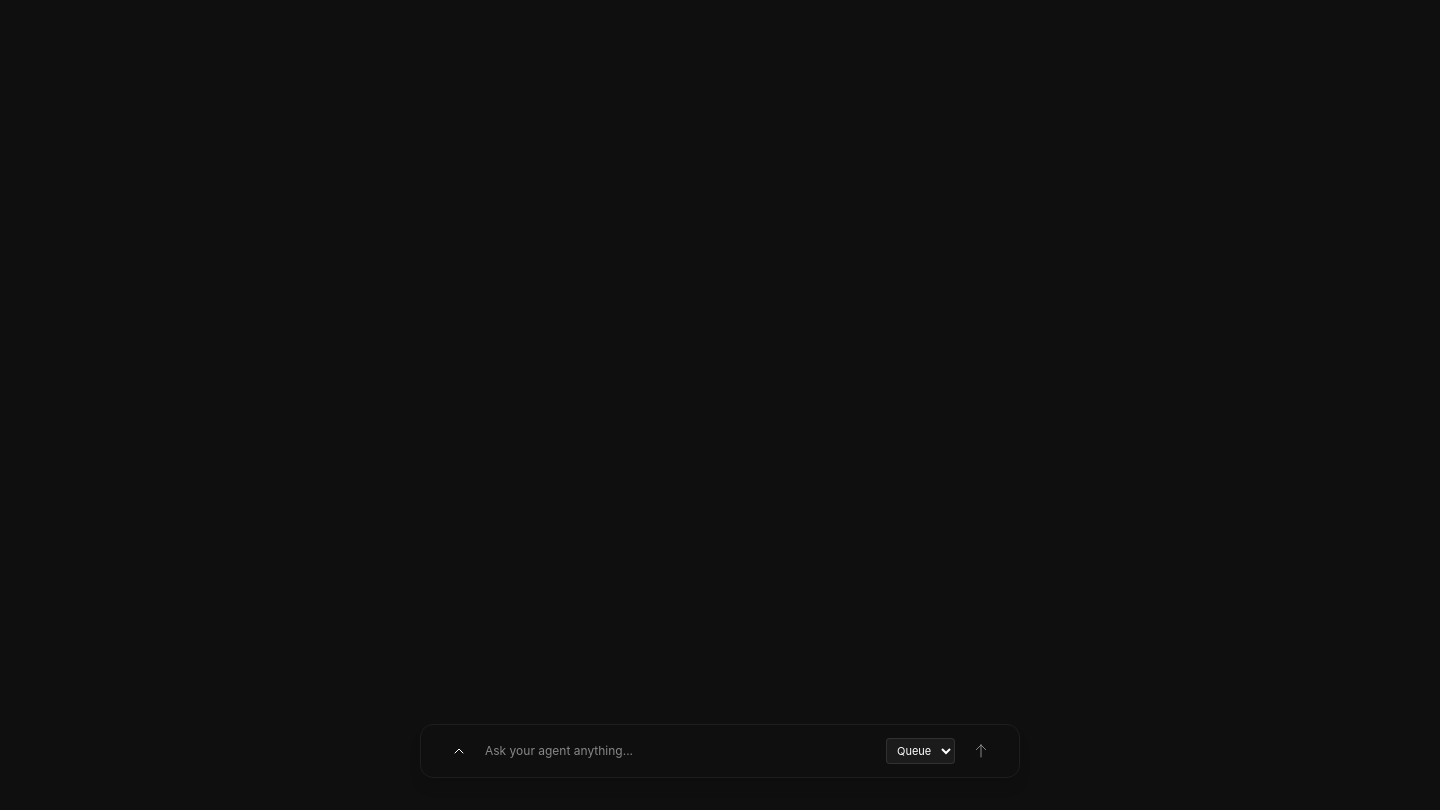
Test case: FloatingChat › confirms before deleting only the chosen conversation
Click the button named "Expand agent chat" at (459, 751), box [445,737,473,765]
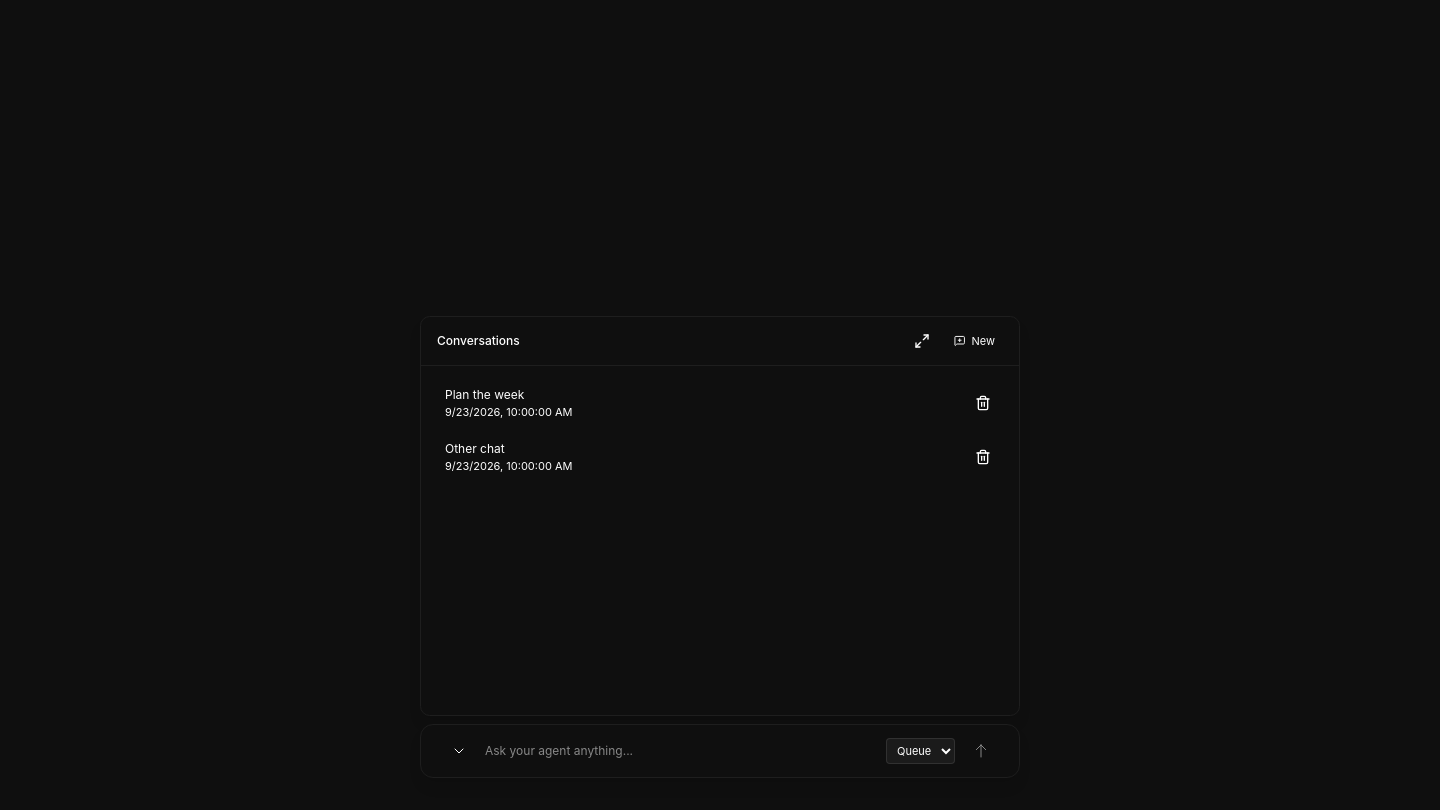
Result: the button "Plan the week 9/23/2026, 10:00:00 AM" is shown at [433,378,967,428]
Click the 1st button named "Delete conversation" at (983, 403), box [967,387,999,419]
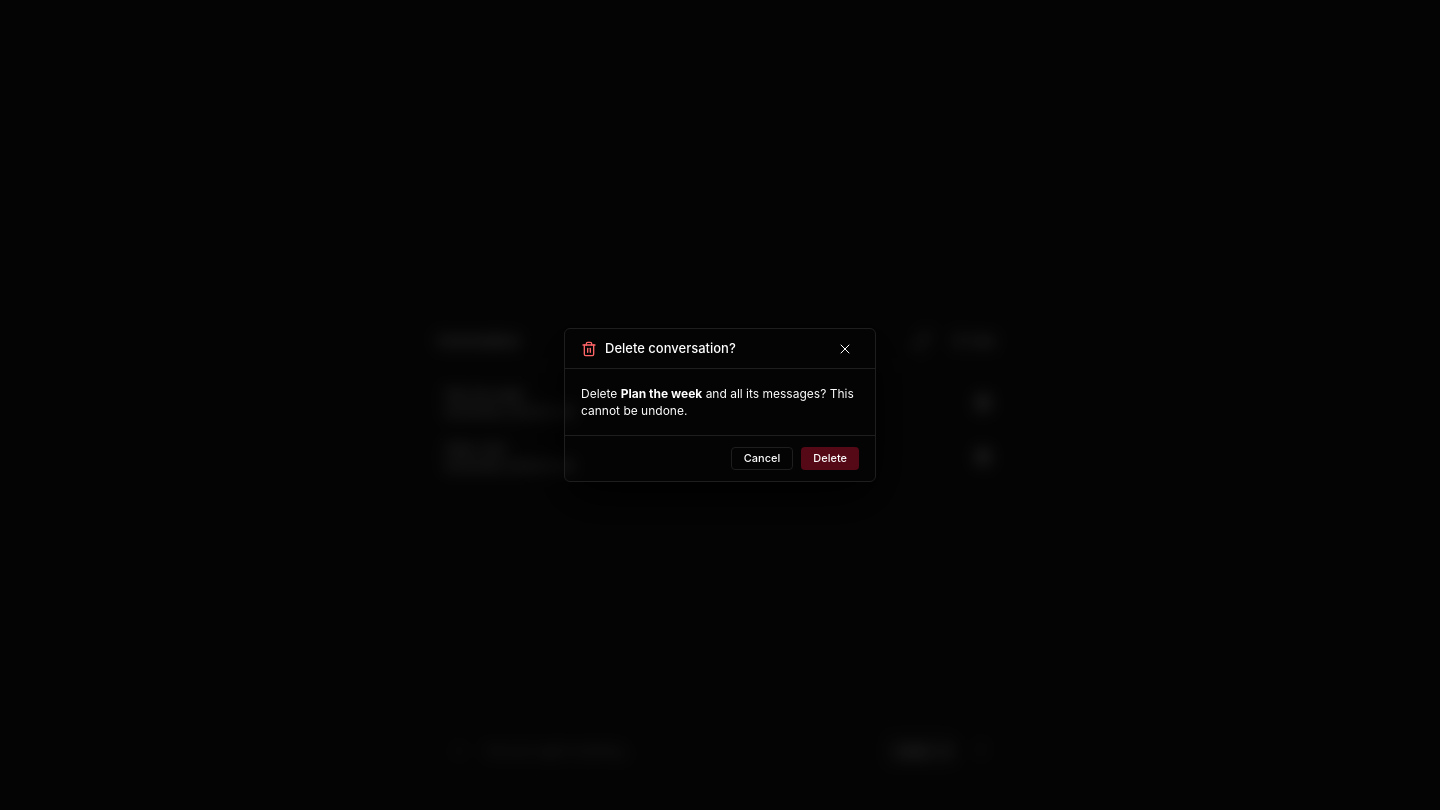
Result: the dialog is shown at [564,328,876,482]
Click the button "Cancel" at (762, 459), box [731,447,793,470]
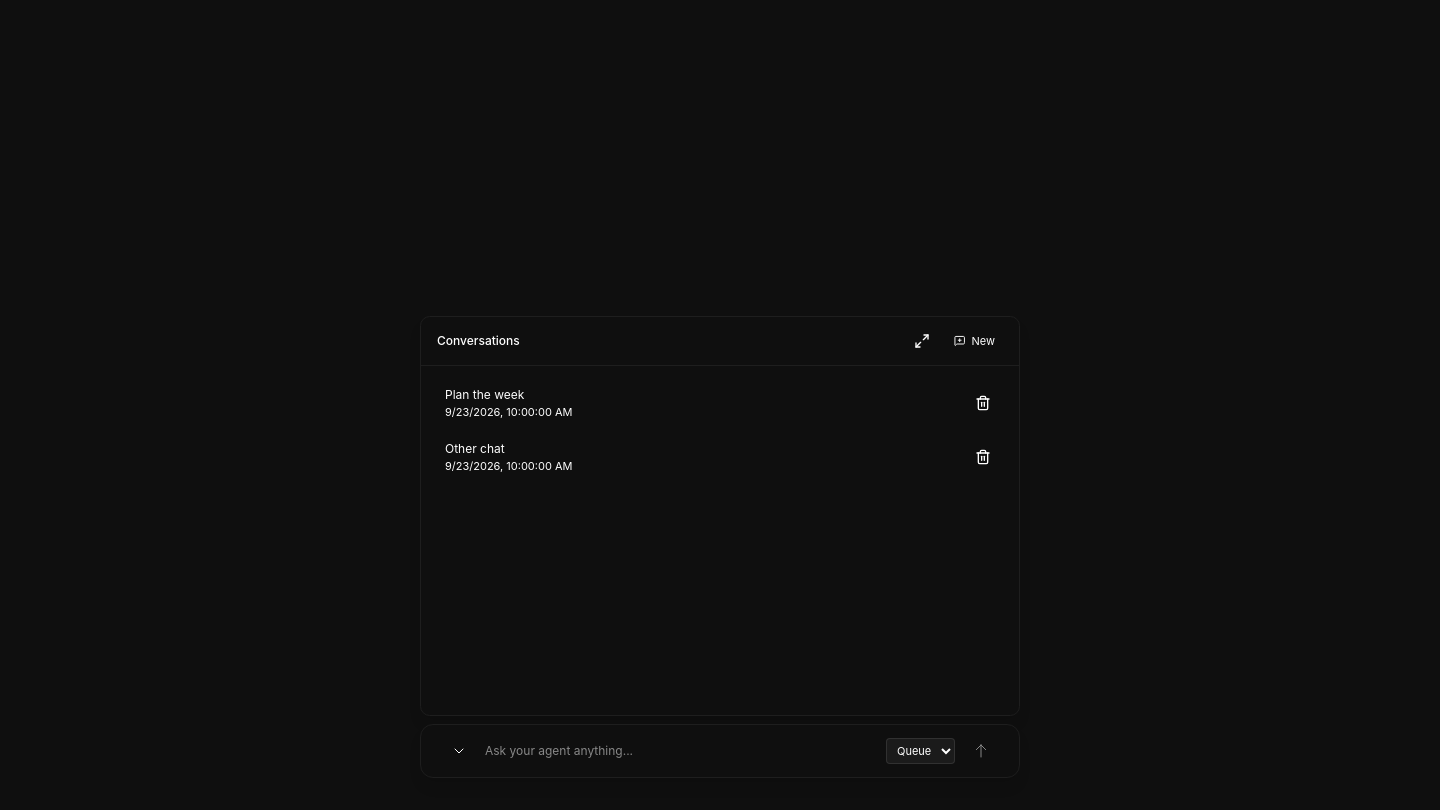
Click the 1st button named "Delete conversation" at (983, 403), box [967,387,999,419]
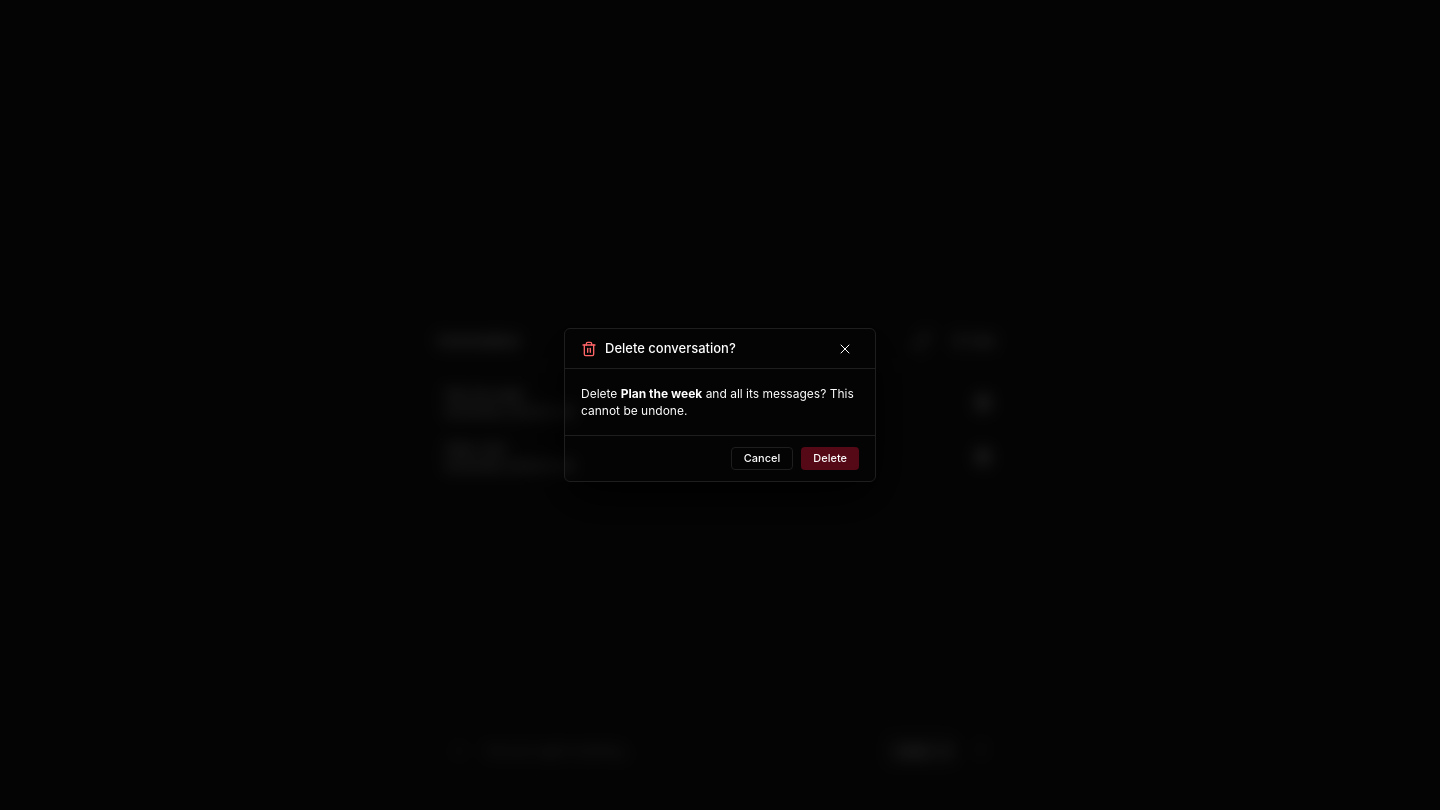
Click the button "Delete" at (830, 459), box [801,447,859,470]
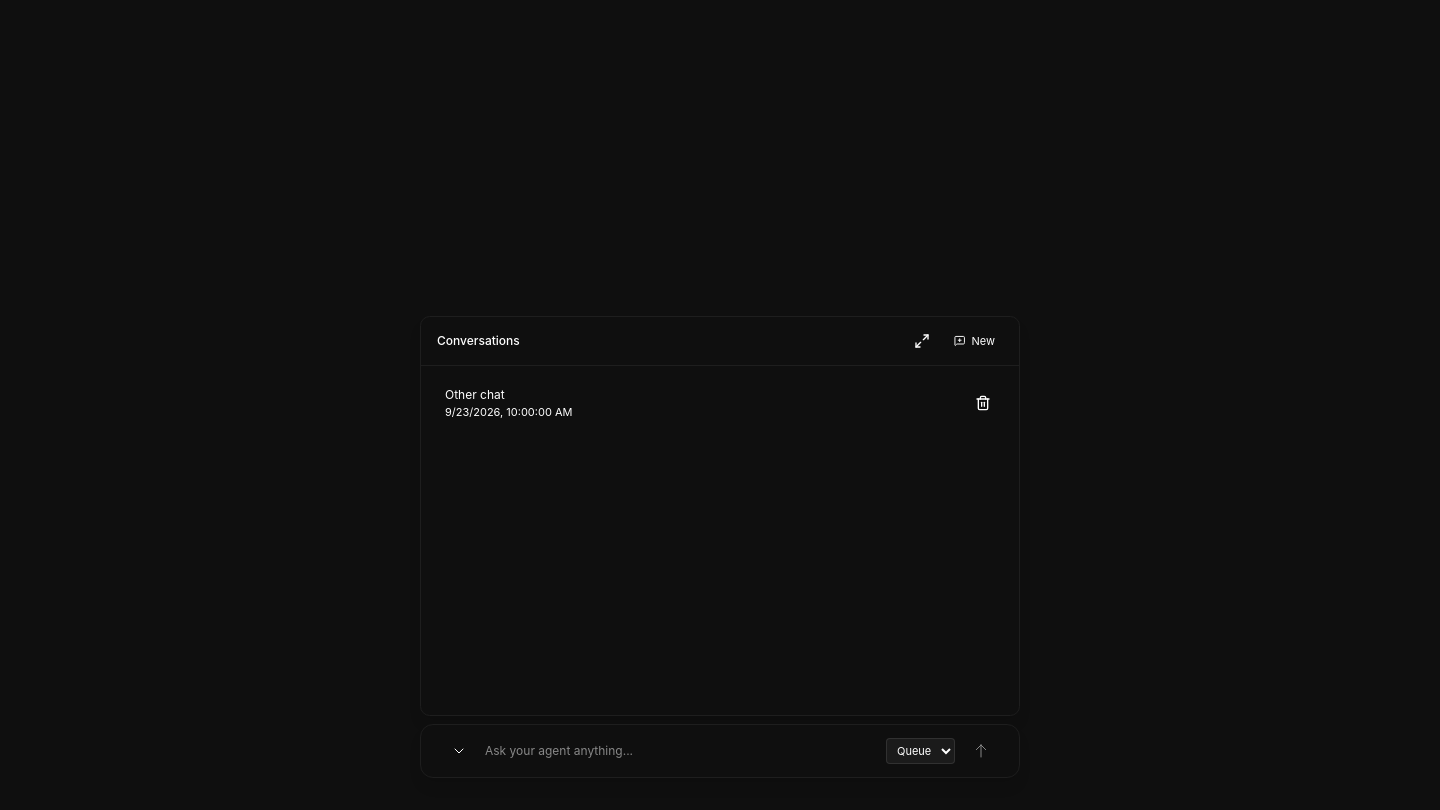
Result: the button "Other chat 9/23/2026, 10:00:00 AM" is shown at [433,378,967,428]
Result: the button "Plan the week" is gone
